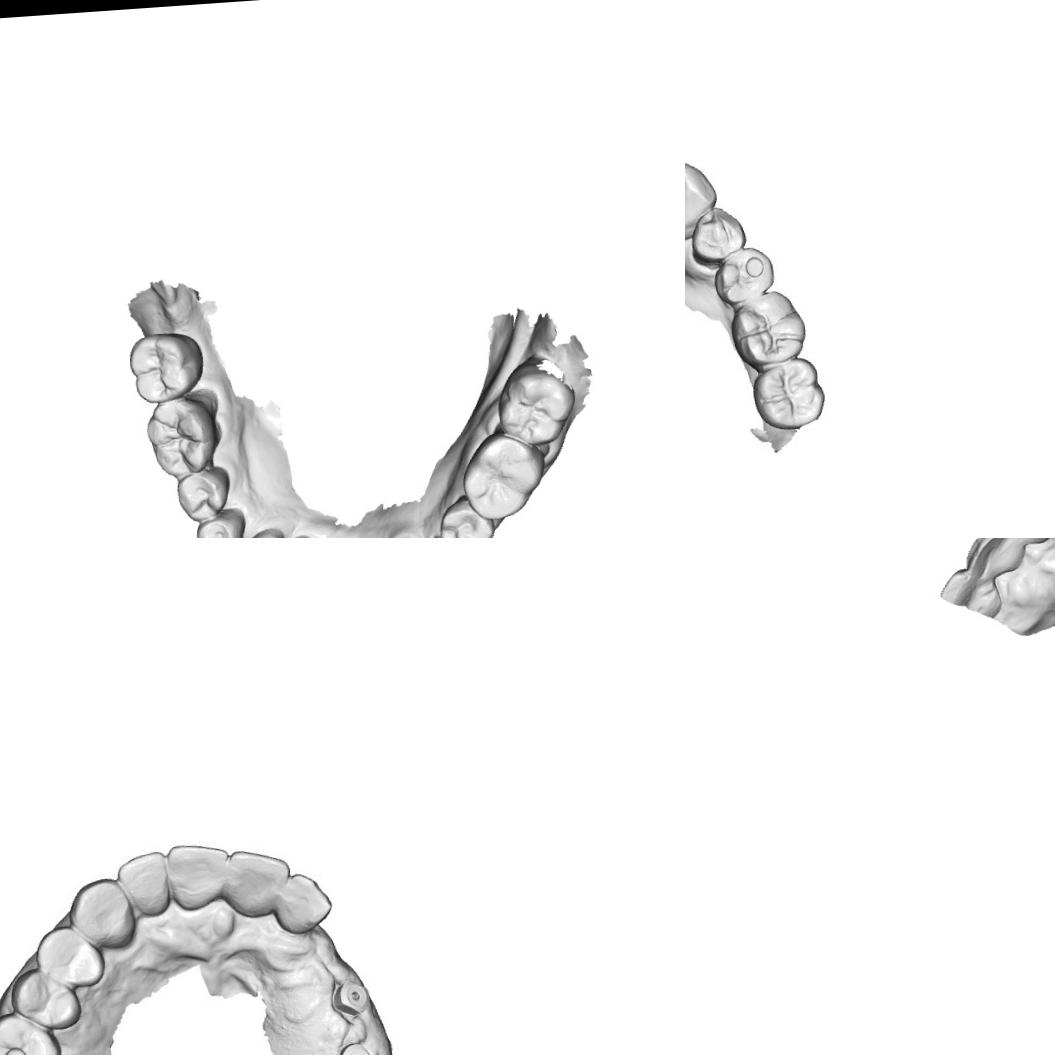canine: (68, 873, 136, 950), (685, 158, 720, 242)
implant: (328, 972, 371, 1016), (337, 1038, 377, 1055)
incisor: (160, 835, 235, 914), (226, 844, 291, 917), (114, 850, 172, 924), (273, 871, 334, 937), (937, 564, 1002, 620), (960, 538, 1025, 578)
molar: (458, 424, 550, 524), (493, 352, 579, 448), (142, 394, 224, 482), (724, 288, 808, 370), (748, 353, 829, 433), (124, 328, 206, 407), (0, 1009, 64, 1055)
premolar: (8, 965, 82, 1036), (32, 920, 106, 991), (710, 243, 776, 306), (686, 204, 747, 270), (174, 464, 236, 523), (435, 491, 496, 538), (193, 509, 250, 538)
